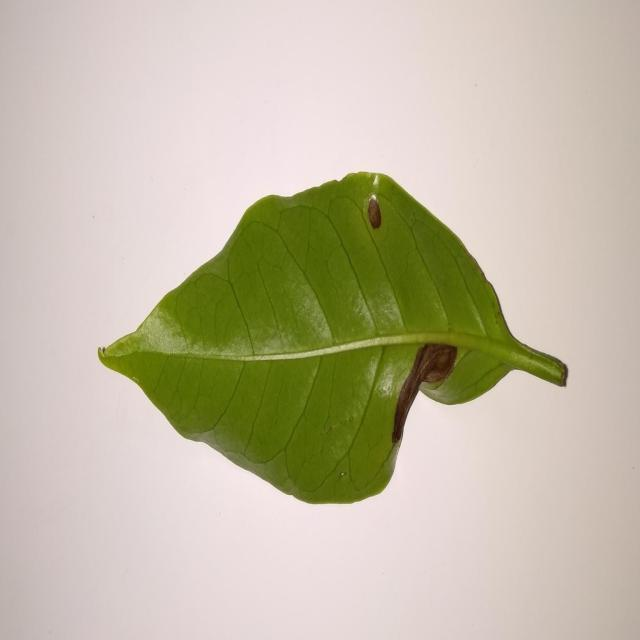Enfermedad-Antracnosis: (95, 173, 570, 507)
